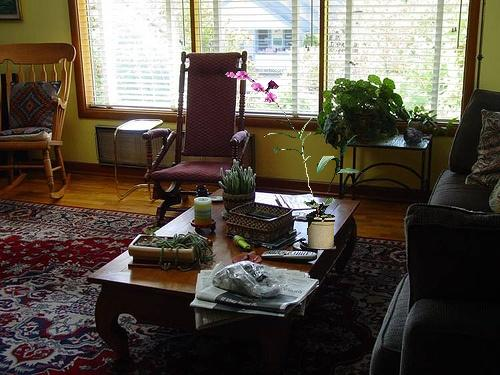tampered: (226, 72, 362, 250)
